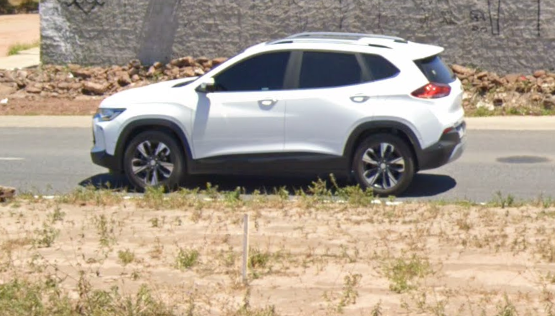car: (88, 27, 468, 197)
